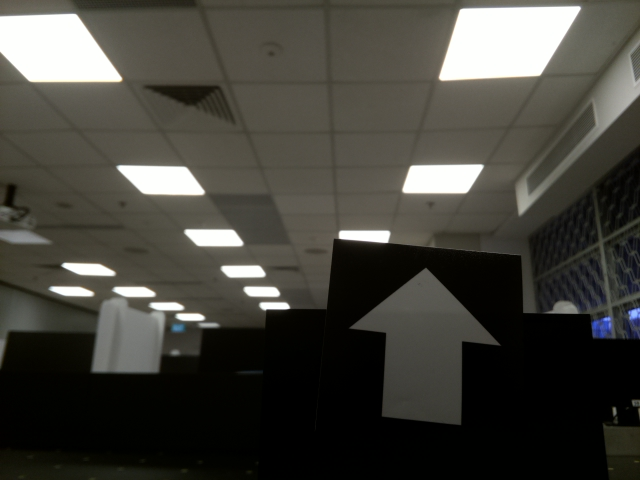up: (346, 253, 505, 438)
